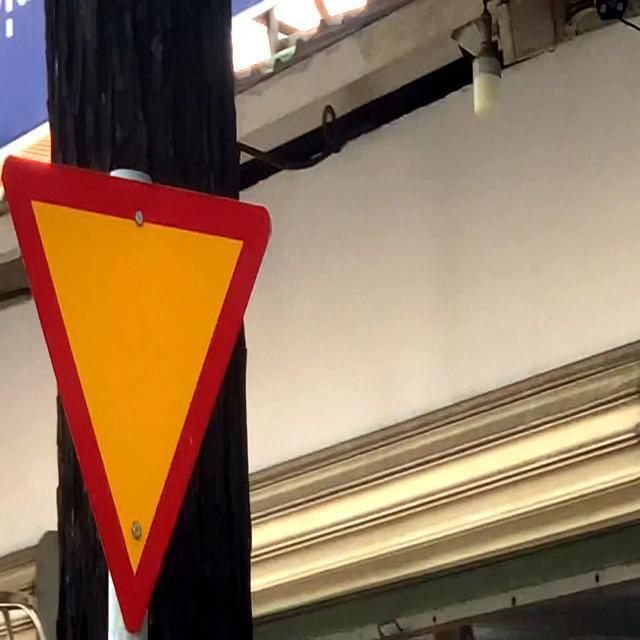208-giao-nhau-voi-duong-uu-tien: (6, 158, 272, 632)
